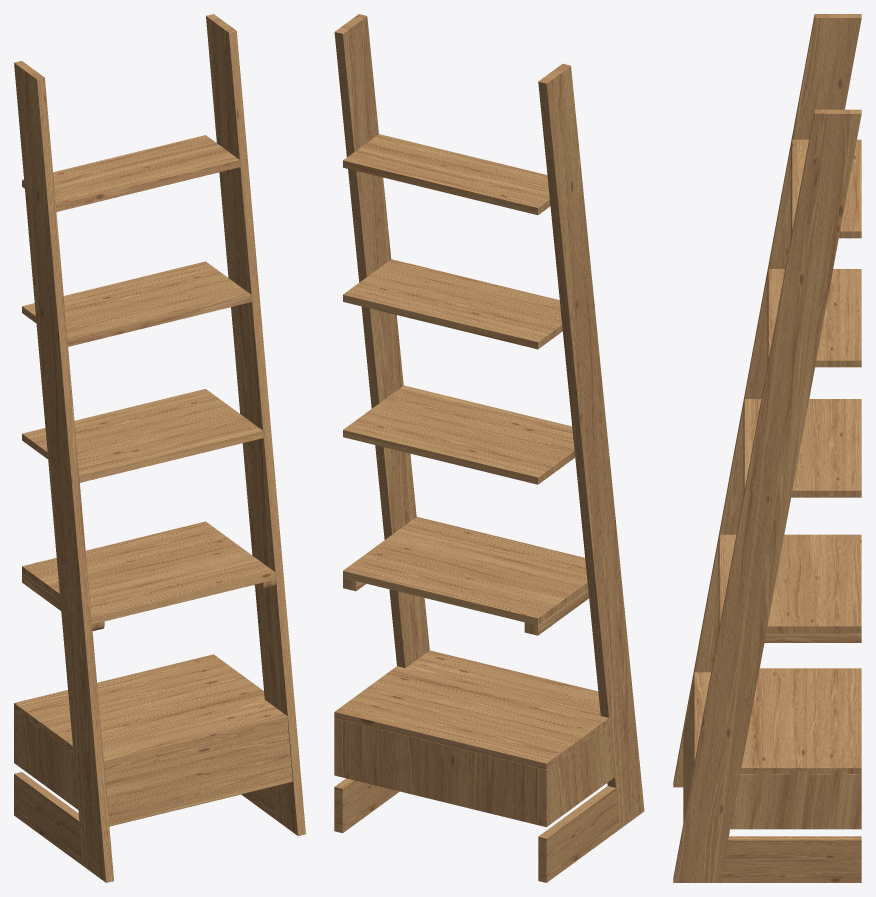
The model's file is open-shelf.glb.
3 views of the same model, side by side, from view 1: azimuth 30°, elevation 25°; view 2: azimuth 150°, elevation 25°; view 3: azimuth 270°, elevation 25° (orthographic). The views are drawn at different scales.
Parts seen in each view (by area): view 1: Object_2, Object_4, Object_3; view 2: Object_2, Object_3; view 3: Object_2, Object_4, Object_3.
Part boxes in pixels (left/top/right/bottom): Object_2: left=14, top=14, right=305, bottom=882; Object_4: left=105, top=723, right=292, bottom=825; Object_3: left=22, top=573, right=292, bottom=826; Object_2: left=334, top=14, right=644, bottom=882; Object_3: left=343, top=578, right=588, bottom=635; Object_2: left=673, top=14, right=861, bottom=882; Object_4: left=683, top=681, right=693, bottom=822; Object_3: left=764, top=633, right=861, bottom=642.
Size of the model in its own units: 500 by 1800 by 400.
Materials: 1 (1 with a texture image).
